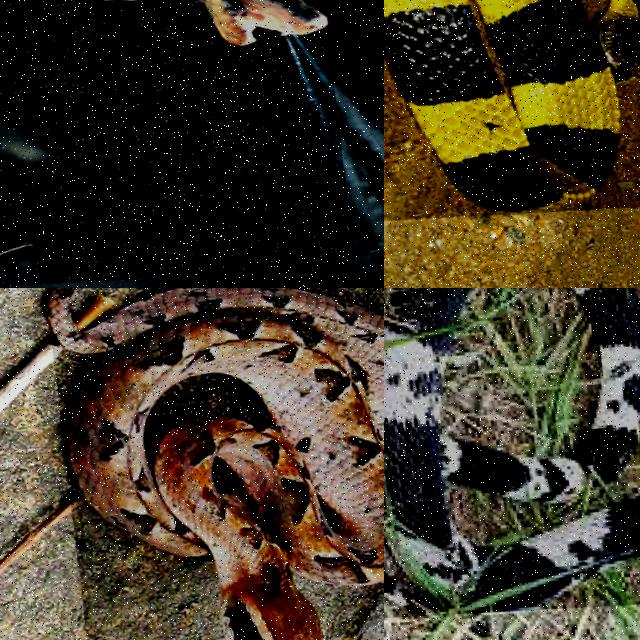Bungarus fasciatus: (384, 0, 639, 213)
Calloselasma rhodostoma: (47, 288, 383, 639)
Naja siamensis: (384, 288, 639, 611), (195, 0, 325, 44)
snake: (47, 288, 383, 639), (384, 288, 639, 611), (384, 0, 639, 213), (195, 0, 325, 44)
